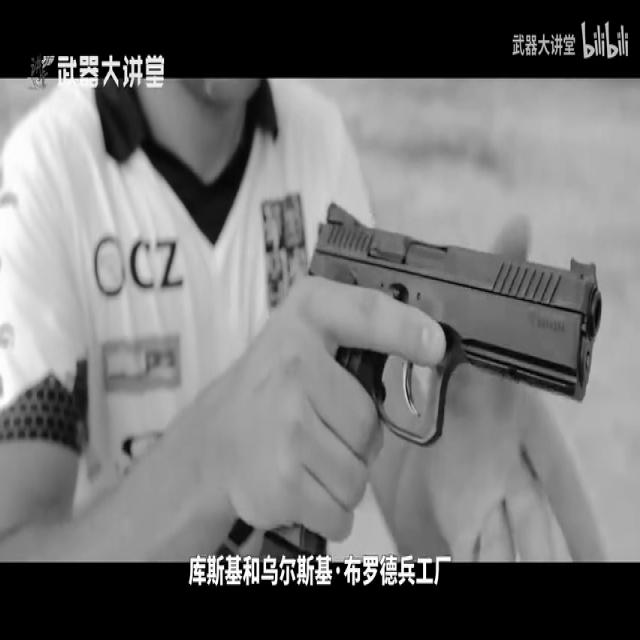Hand-Gun: (305, 188, 607, 482)
